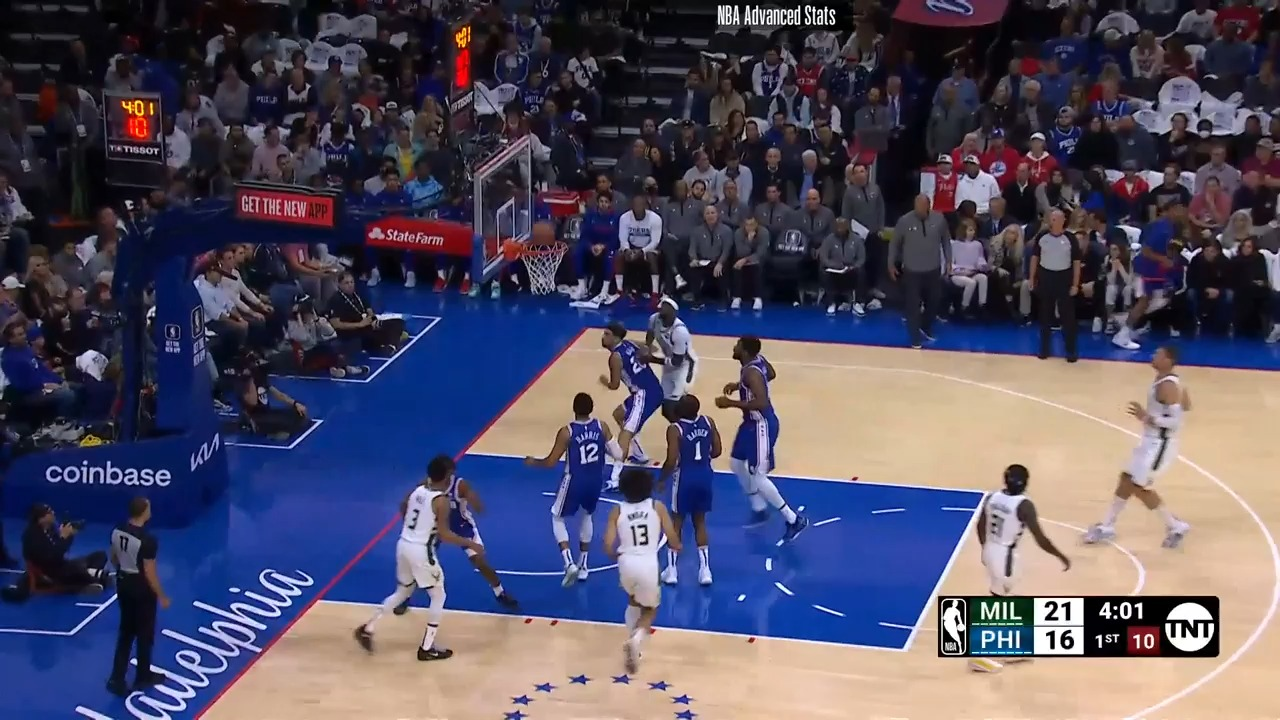net: (504, 231, 573, 295)
player: (357, 458, 487, 669), (1077, 343, 1204, 554), (526, 388, 624, 593), (713, 336, 805, 547), (596, 465, 679, 686), (657, 390, 729, 594), (964, 462, 1070, 598), (434, 462, 523, 621), (592, 321, 667, 466), (646, 295, 704, 440)
referee: (104, 495, 173, 706), (1022, 208, 1088, 372)
